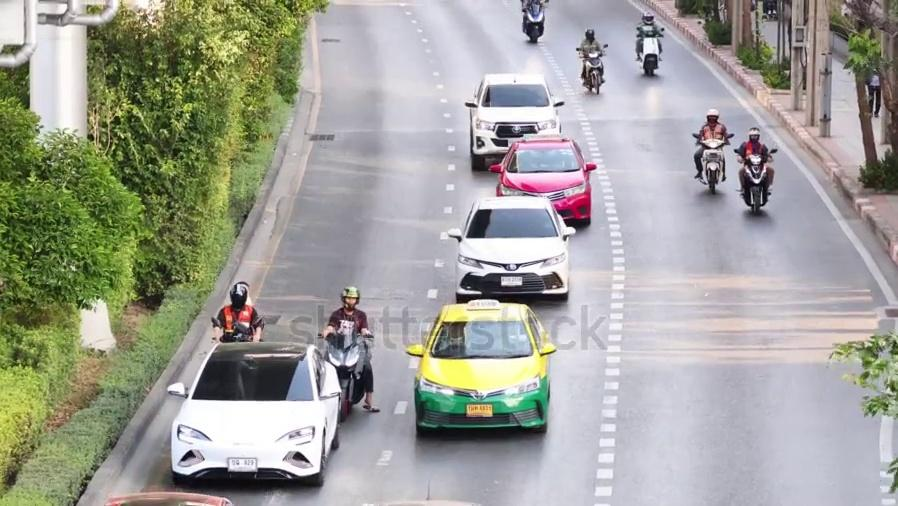person: (865, 69, 881, 117)
rider: (322, 285, 380, 412), (210, 280, 264, 342), (692, 107, 729, 181), (734, 126, 773, 195), (576, 28, 605, 83), (634, 10, 664, 61)
with_helmate: (228, 284, 250, 309), (339, 289, 360, 308), (701, 109, 720, 125), (744, 129, 764, 144), (639, 11, 656, 25), (581, 28, 597, 42)
